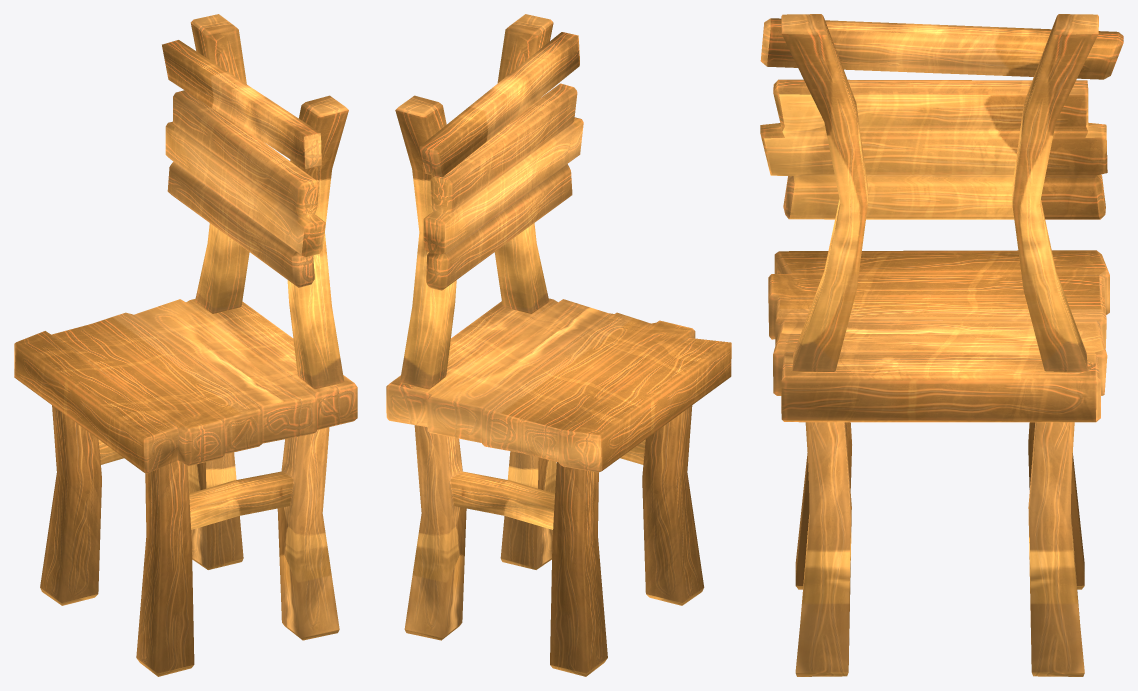
File: SM_Stylized_Chair.fbx
The picture shows the model from 3 angles, left to right: view 1: azimuth 30°, elevation 25°; view 2: azimuth 150°, elevation 25°; view 3: azimuth 270°, elevation 25°; orthographic projection. The views are drawn at different scales.
Visible parts, largest first — view 1: SM_Stylized_Chair_LOD0; view 2: SM_Stylized_Chair_LOD0; view 3: SM_Stylized_Chair_LOD0.
Boxes of the visible parts, x1,y1,x2,y2 form: SM_Stylized_Chair_LOD0: [14, 14, 357, 676]; SM_Stylized_Chair_LOD0: [386, 14, 731, 676]; SM_Stylized_Chair_LOD0: [760, 14, 1123, 676].
Bounding box in the file's own units: 56.08 × 66.62 × 131.
